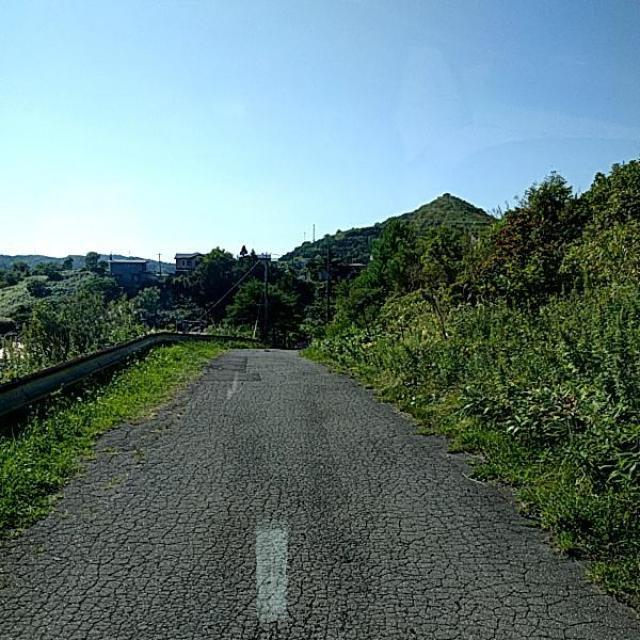Retak Buaya: (0, 398, 640, 640)
